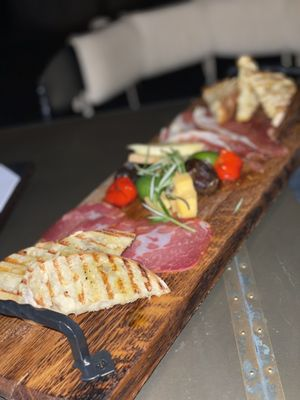curry: (1, 52, 299, 400)
sandwich: (0, 96, 297, 399)
